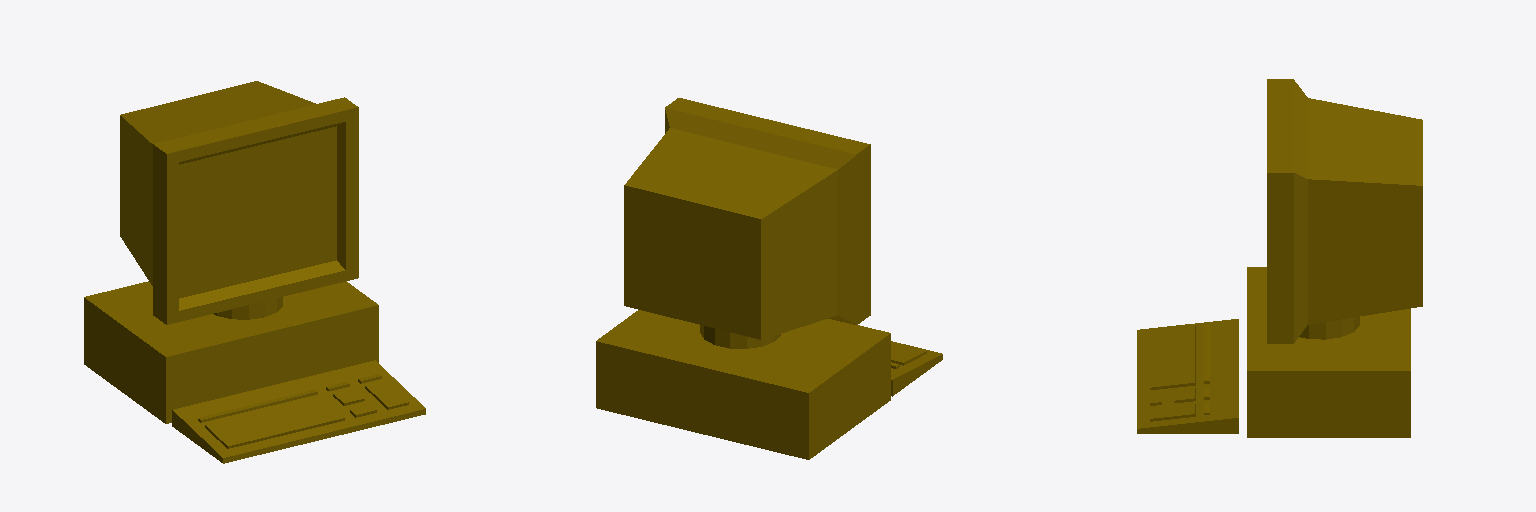
Rendered from workstation.obj.
3 views of the same model, side by side, from view 1: azimuth 30°, elevation 25°; view 2: azimuth 150°, elevation 25°; view 3: azimuth 270°, elevation 25° (orthographic).
Parts seen in each view (by area): view 1: Layer0_001; view 2: Layer0_001; view 3: Layer0_001.
Part boxes in pixels (x1,y1,x2,y2): Layer0_001: (84,81,425,463); Layer0_001: (596,98,942,459); Layer0_001: (1137,79,1422,437).
Bounding box in the file's own units: 50.69 × 59.14 × 58.77.